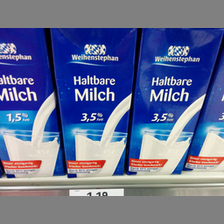milk: (128, 28, 223, 178), (50, 28, 138, 183), (1, 27, 68, 180)
